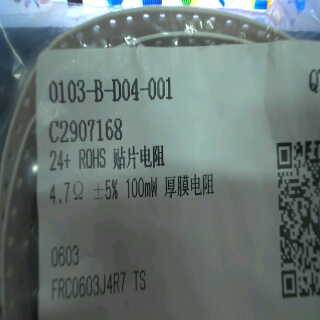4.7R: (49, 175, 90, 215)
